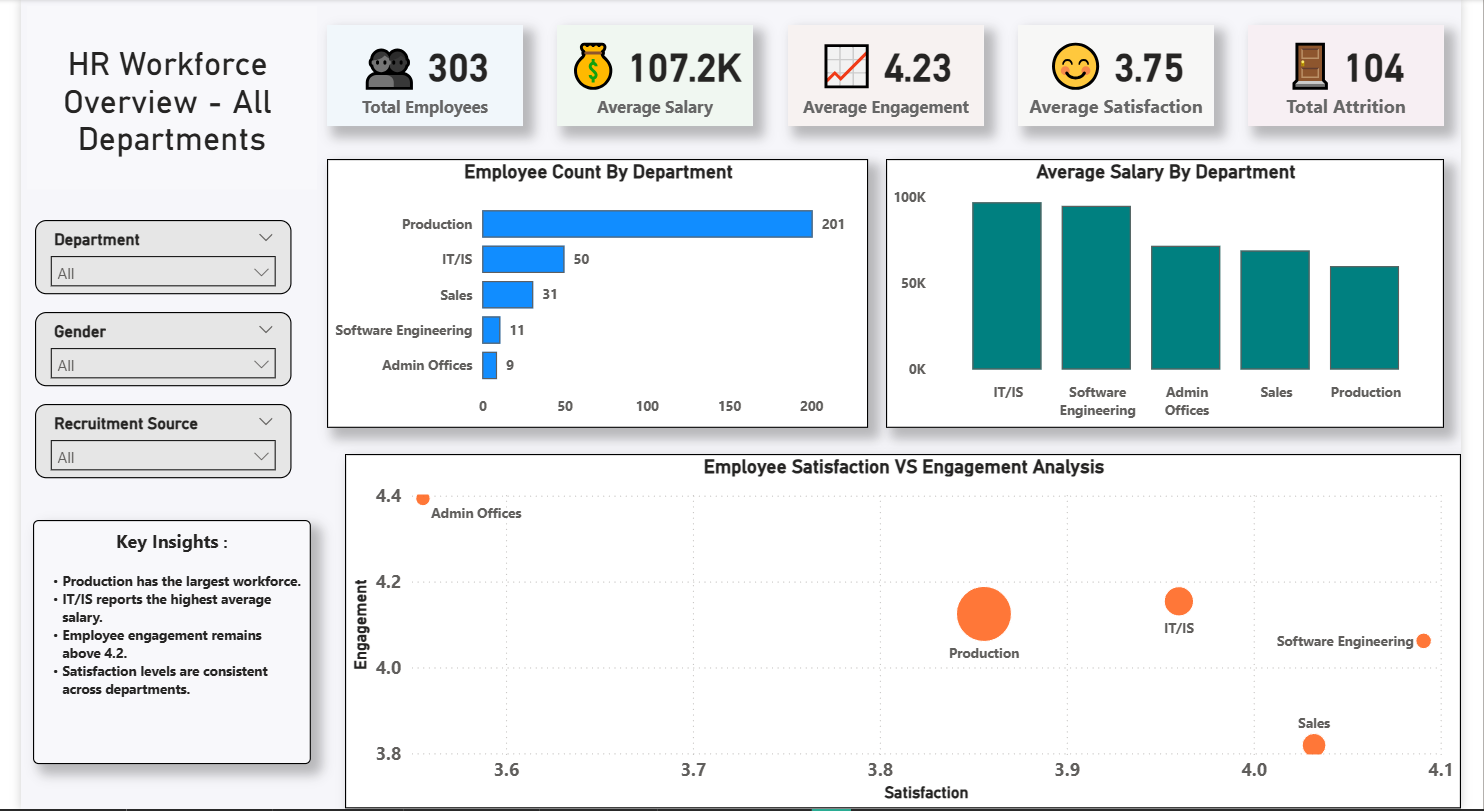

What the dashboard file says about the page in this screenshot:
{"tool":"powerbi","page":{"name":"Worforce Overview","canvas":[1280,720],"ordinal":0},"visuals":[{"type":"card","fields":{"Values":["project department_summary.Total Employees"]},"box":[272.3,23.3,174,90.5],"z":0},{"type":"card","fields":{"Values":["project department_summary.Average Salary"]},"box":[476.8,23.3,174.1,90.5],"z":1000},{"type":"card","fields":{"Values":["project department_summary.Average Satisfaction"]},"box":[885.9,23.3,174,90.5],"z":2000},{"type":"card","fields":{"Values":["project department_summary.Average Engagement"]},"box":[681.4,23.3,174,90.5],"z":3000},{"type":"card","fields":{"Values":["project attrition_analysis.Total Attrition"]},"box":[1090.3,23.3,174,90.5],"z":4000},{"type":"clusteredBarChart","title":"Employee Count By Department","fields":{"Category":["project department_summary.department"],"Y":["Sum(project department_summary.total_employees)"]},"box":[272,142.2,480.9,239.1],"z":5000},{"type":"columnChart","title":"Average Salary By Department","fields":{"Category":["project department_summary.department"],"Y":["Sum(project department_summary.avg_salary)"]},"box":[768.9,142.2,496,239.1],"z":6000},{"type":"scatterChart","title":"Employee Satisfaction VS Engagement Analysis","fields":{"X":["Sum(project department_summary.avg_satisfaction)"],"Y":["Sum(project department_summary.avg_engagement)"],"Category":["project department_summary.department"],"Size":["CountNonNull(project attrition_analysis.Employee_name)"]},"box":[288.1,404.8,991.9,315.1],"z":7000},{"type":"slicer","fields":{"Values":["project department_summary.department"]},"box":[12.6,196.6,228,65.5],"z":8000},{"type":"slicer","fields":{"Values":["project attrition_analysis.Sex"]},"box":[12.6,278.3,228,66.4],"z":9000},{"type":"slicer","fields":{"Values":["project attrition_analysis.RecruitmentSource"]},"box":[12.6,360,228,66.4],"z":10000},{"type":"card","fields":{"Values":["project department_summary.Dashboard Title"]},"box":[5.4,6.3,257.7,163.4],"z":11000},{"type":"textbox","box":[10.8,463.2,246.8,217.2],"z":12000}]}

Visuals, with their boxes in screenshot pixels (x1, y1, x2, y2), scaled from the page's 1280x720 canvas onto the 1484x811 screenshot:
card - project department_summary.Total Employees: 316, 26, 517, 128
card - project department_summary.Average Salary: 553, 26, 755, 128
card - project department_summary.Average Satisfaction: 1027, 26, 1229, 128
card - project department_summary.Average Engagement: 790, 26, 992, 128
card - project attrition_analysis.Total Attrition: 1264, 26, 1466, 128
"Employee Count By Department" clusteredBarChart: 315, 160, 873, 429
"Average Salary By Department" columnChart: 891, 160, 1466, 429
"Employee Satisfaction VS Engagement Analysis" scatterChart: 334, 456, 1483, 810
slicer - project department_summary.department: 15, 221, 279, 295
slicer - project attrition_analysis.Sex: 15, 313, 279, 388
slicer - project attrition_analysis.RecruitmentSource: 15, 406, 279, 480
card - project department_summary.Dashboard Title: 6, 7, 305, 191
textbox: 13, 522, 299, 766
